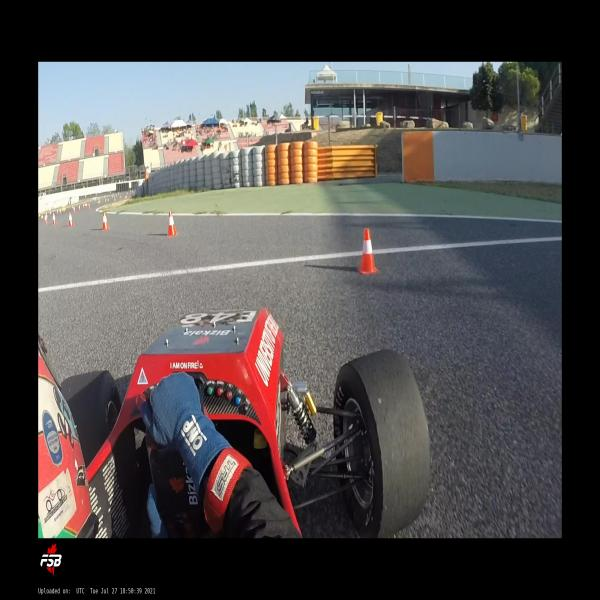orange_cone: (357, 228, 379, 274), (167, 210, 178, 236), (102, 211, 109, 231), (68, 211, 74, 227), (52, 212, 56, 225), (44, 214, 48, 224)
